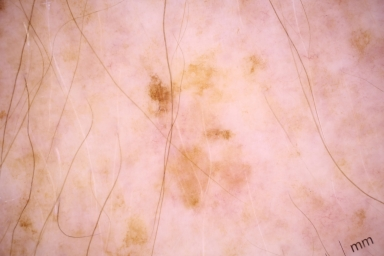nevus: (147, 75, 172, 113)
